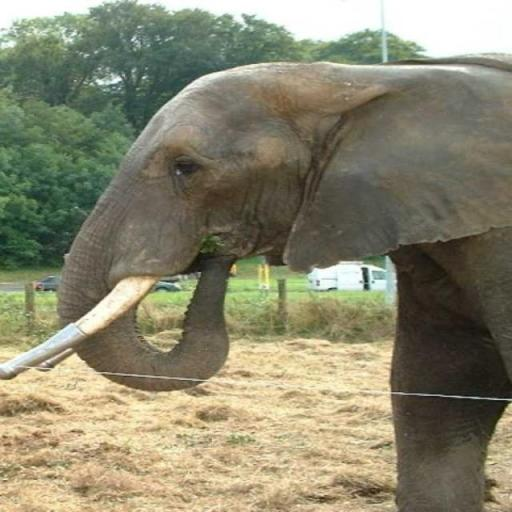Elephant: (0, 52, 511, 510)
